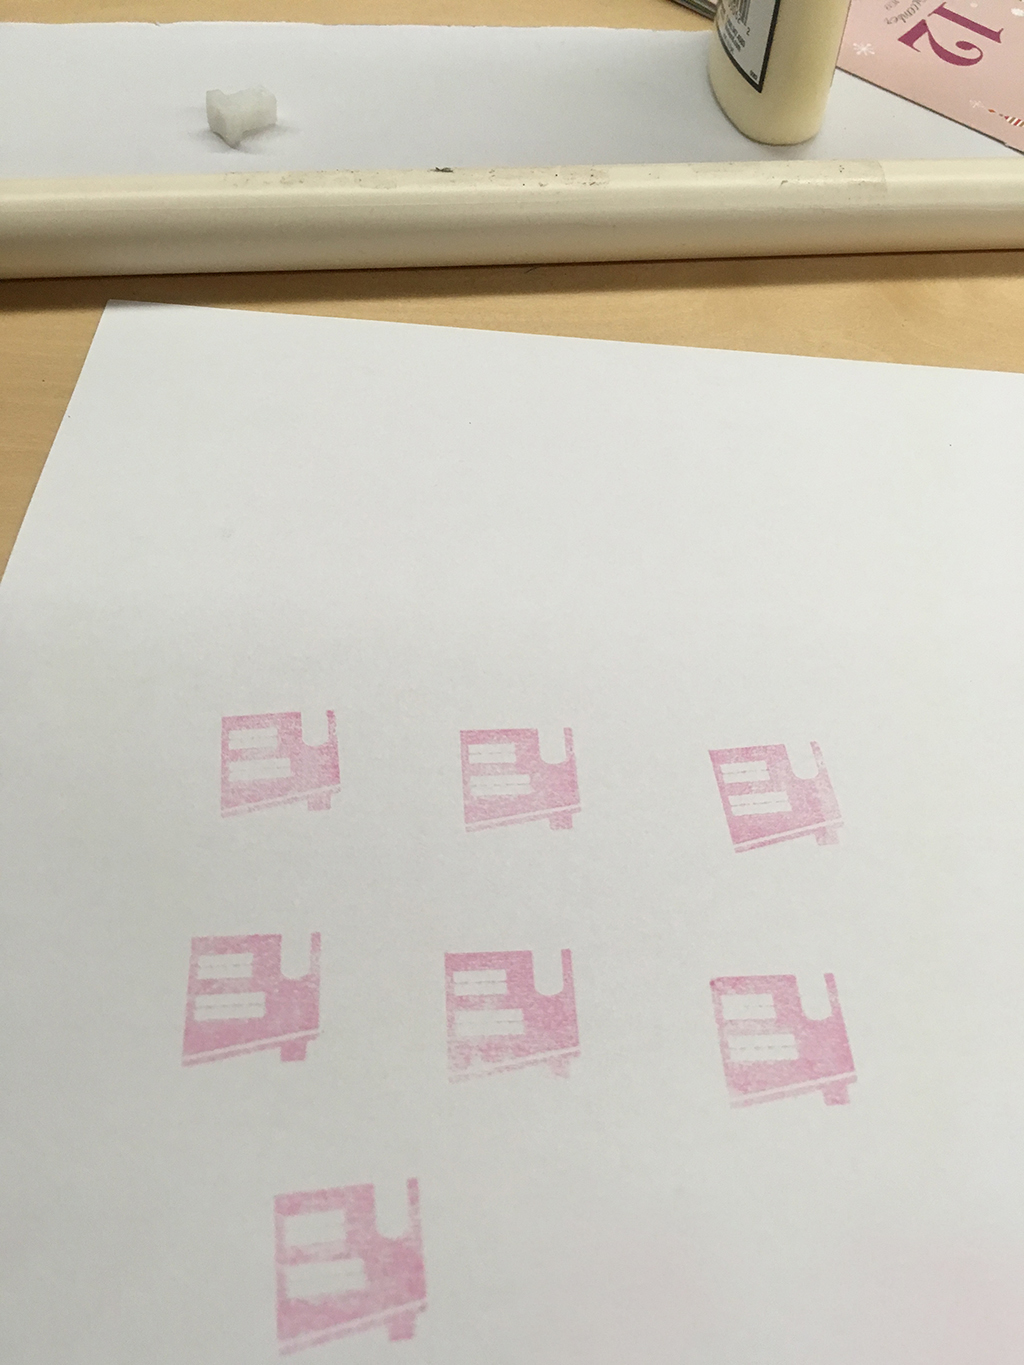house: (232, 1169, 447, 1365), (691, 958, 870, 1129), (432, 927, 593, 1097), (174, 913, 336, 1081), (695, 727, 862, 867), (213, 694, 358, 848), (450, 709, 591, 847)
